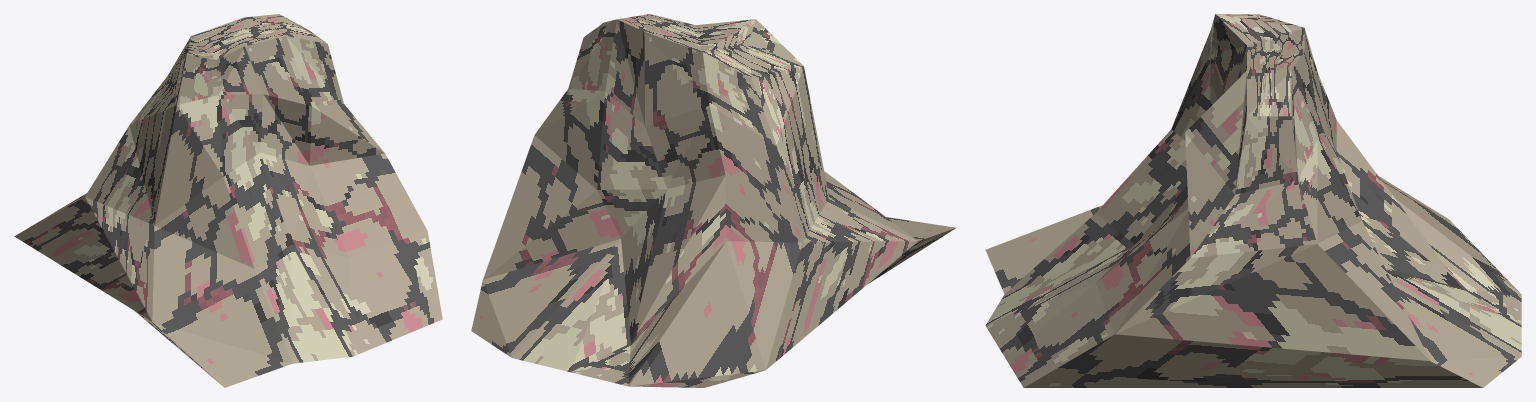
Rendered from rock_pile.fbx.
3 renders of one model, left to right at view 1: azimuth 30°, elevation 25°; view 2: azimuth 150°, elevation 25°; view 3: azimuth 270°, elevation 25°, orthographic. The views are drawn at different scales.
Parts seen in each view (by area): view 1: Cube; view 2: Cube; view 3: Cube.
Boxes of the visible parts, x1,y1,x2,y2 form: Cube: [14, 14, 442, 387]; Cube: [471, 14, 956, 387]; Cube: [985, 14, 1521, 387].
Size of the model in its own units: 7.3 by 6.01 by 10.17.
